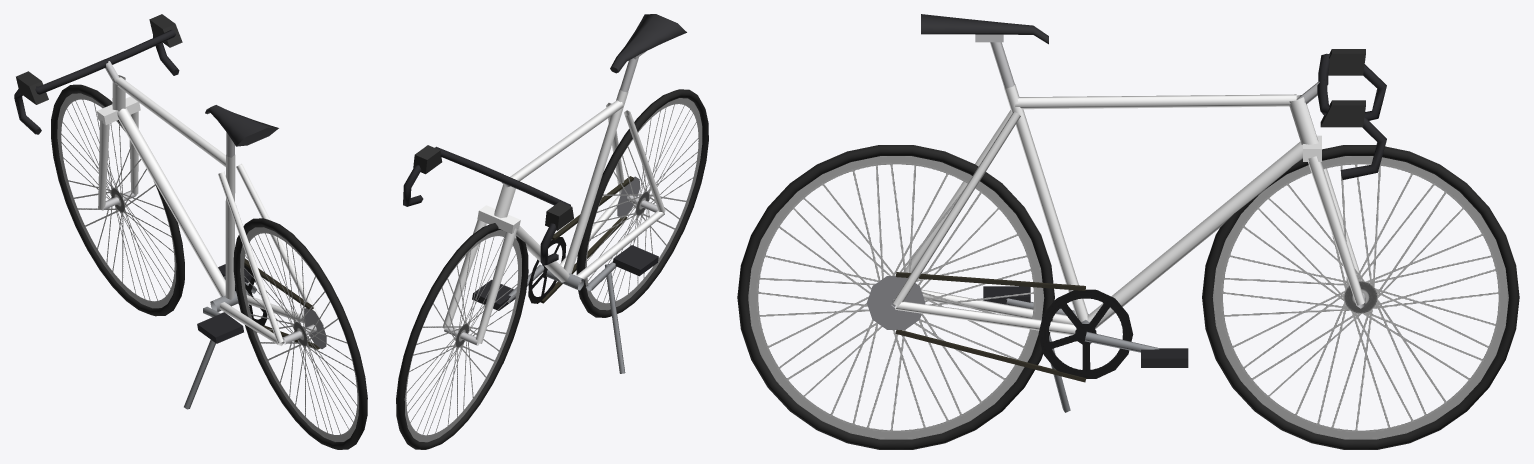
The model's file is road_lean.glb.
3 renders of one model, left to right at view 1: azimuth 30°, elevation 25°; view 2: azimuth 150°, elevation 25°; view 3: azimuth 270°, elevation 25°, orthographic. The views are drawn at different scales.
Parts seen in each view (by area): view 1: bike; view 2: bike; view 3: bike.
Boxes of the visible parts, bbox=[...] form: bike: bbox=[14, 14, 367, 449]; bike: bbox=[396, 14, 708, 449]; bike: bbox=[737, 14, 1519, 449].
Size of the model in its own units: 0.4897 by 0.9393 by 1.65.
Materials: 1 (1 with a texture image).
